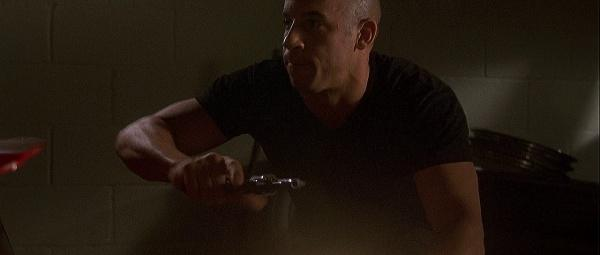Gun: (218, 175, 307, 200)
